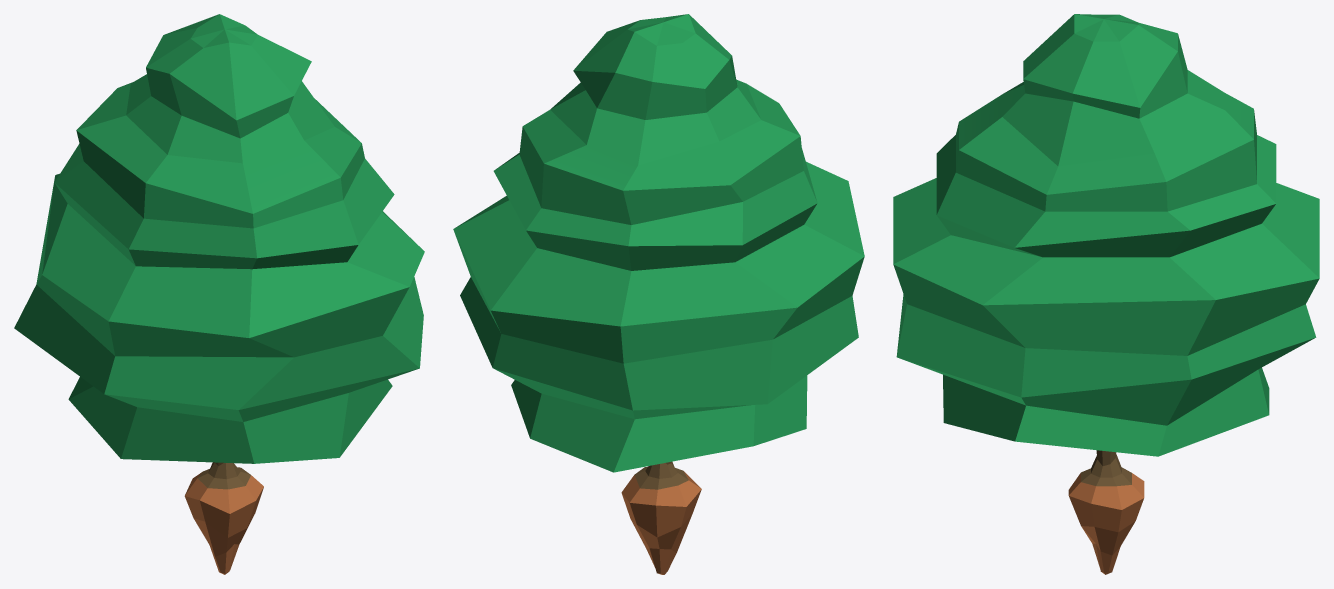
File: mod_BlueberryBush_Half.fbx
3 renders of one model, left to right at view 1: azimuth 30°, elevation 25°; view 2: azimuth 150°, elevation 25°; view 3: azimuth 270°, elevation 25°, orthographic.
Visible parts, largest first — view 1: BlueberryBush.001; view 2: BlueberryBush.001; view 3: BlueberryBush.001.
Boxes of the visible parts, x1,y1,x2,y2 form: BlueberryBush.001: [14, 14, 424, 574]; BlueberryBush.001: [453, 14, 864, 574]; BlueberryBush.001: [893, 14, 1319, 574].
Size of the model in its own units: 636 by 1052 by 732.
